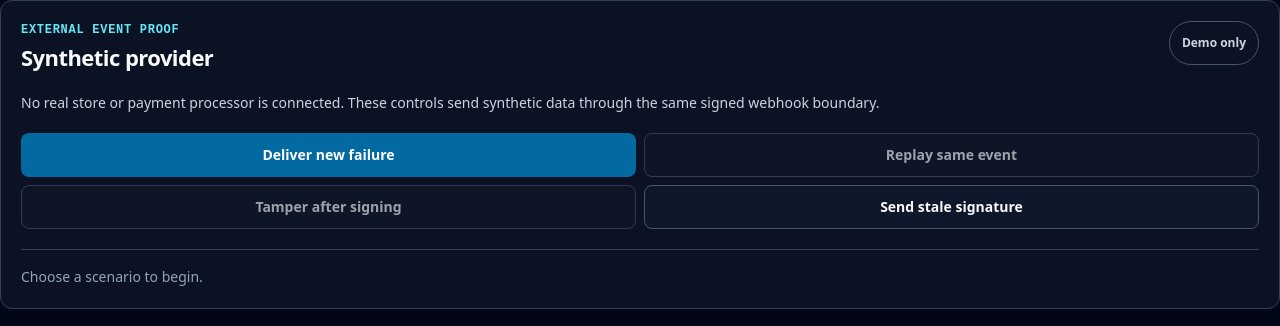
SyntheticProviderPanel › shows the webhook_ingress_rate_limited outcome without automatically resending
Click the button "Deliver new failure".
click(328, 155)  # box [21,133,636,177]
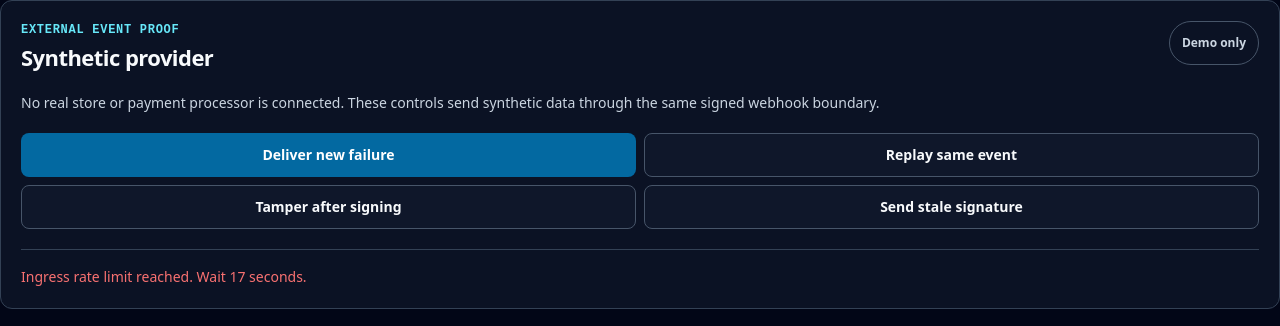
Expected: the message reads "Ingress rate limit reached. Wait 17 seconds.", [21,267,307,286]
